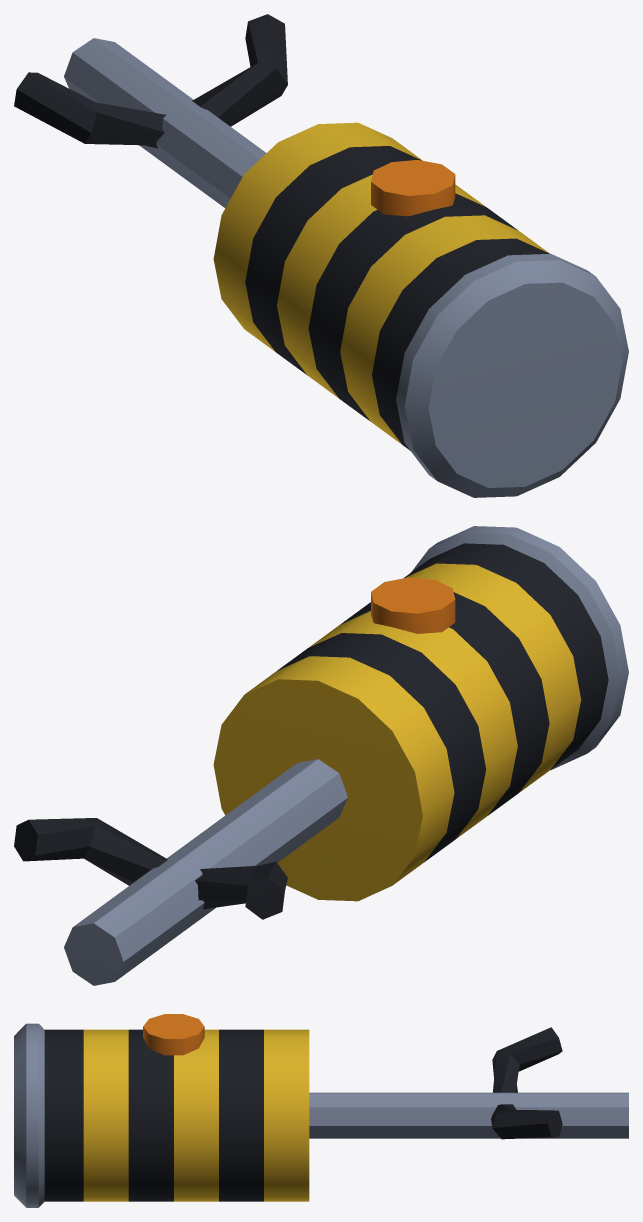
The model's file is w_b_pile.glb.
The picture shows the model from 3 angles, top to bottom: view 1: azimuth 30°, elevation 25°; view 2: azimuth 150°, elevation 25°; view 3: azimuth 270°, elevation 25°; orthographic projection. The views are drawn at different scales.
Visible parts, largest first — view 1: body; view 2: body; view 3: body.
Part boxes in pixels (bbox=[...]): body: bbox=[14, 14, 628, 497]; body: bbox=[14, 526, 628, 985]; body: bbox=[14, 1014, 628, 1207].
Bounding box in the file's own units: 0.359 × 0.31 × 1.
